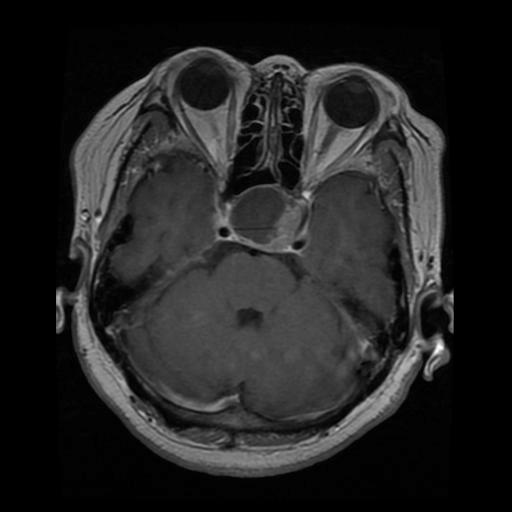Tumour-Pituitary: (211, 193, 318, 251)
